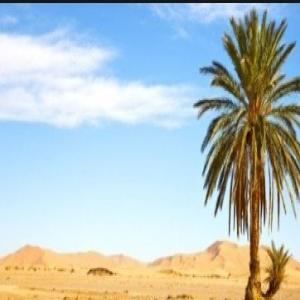palm tree: (192, 8, 299, 298)
